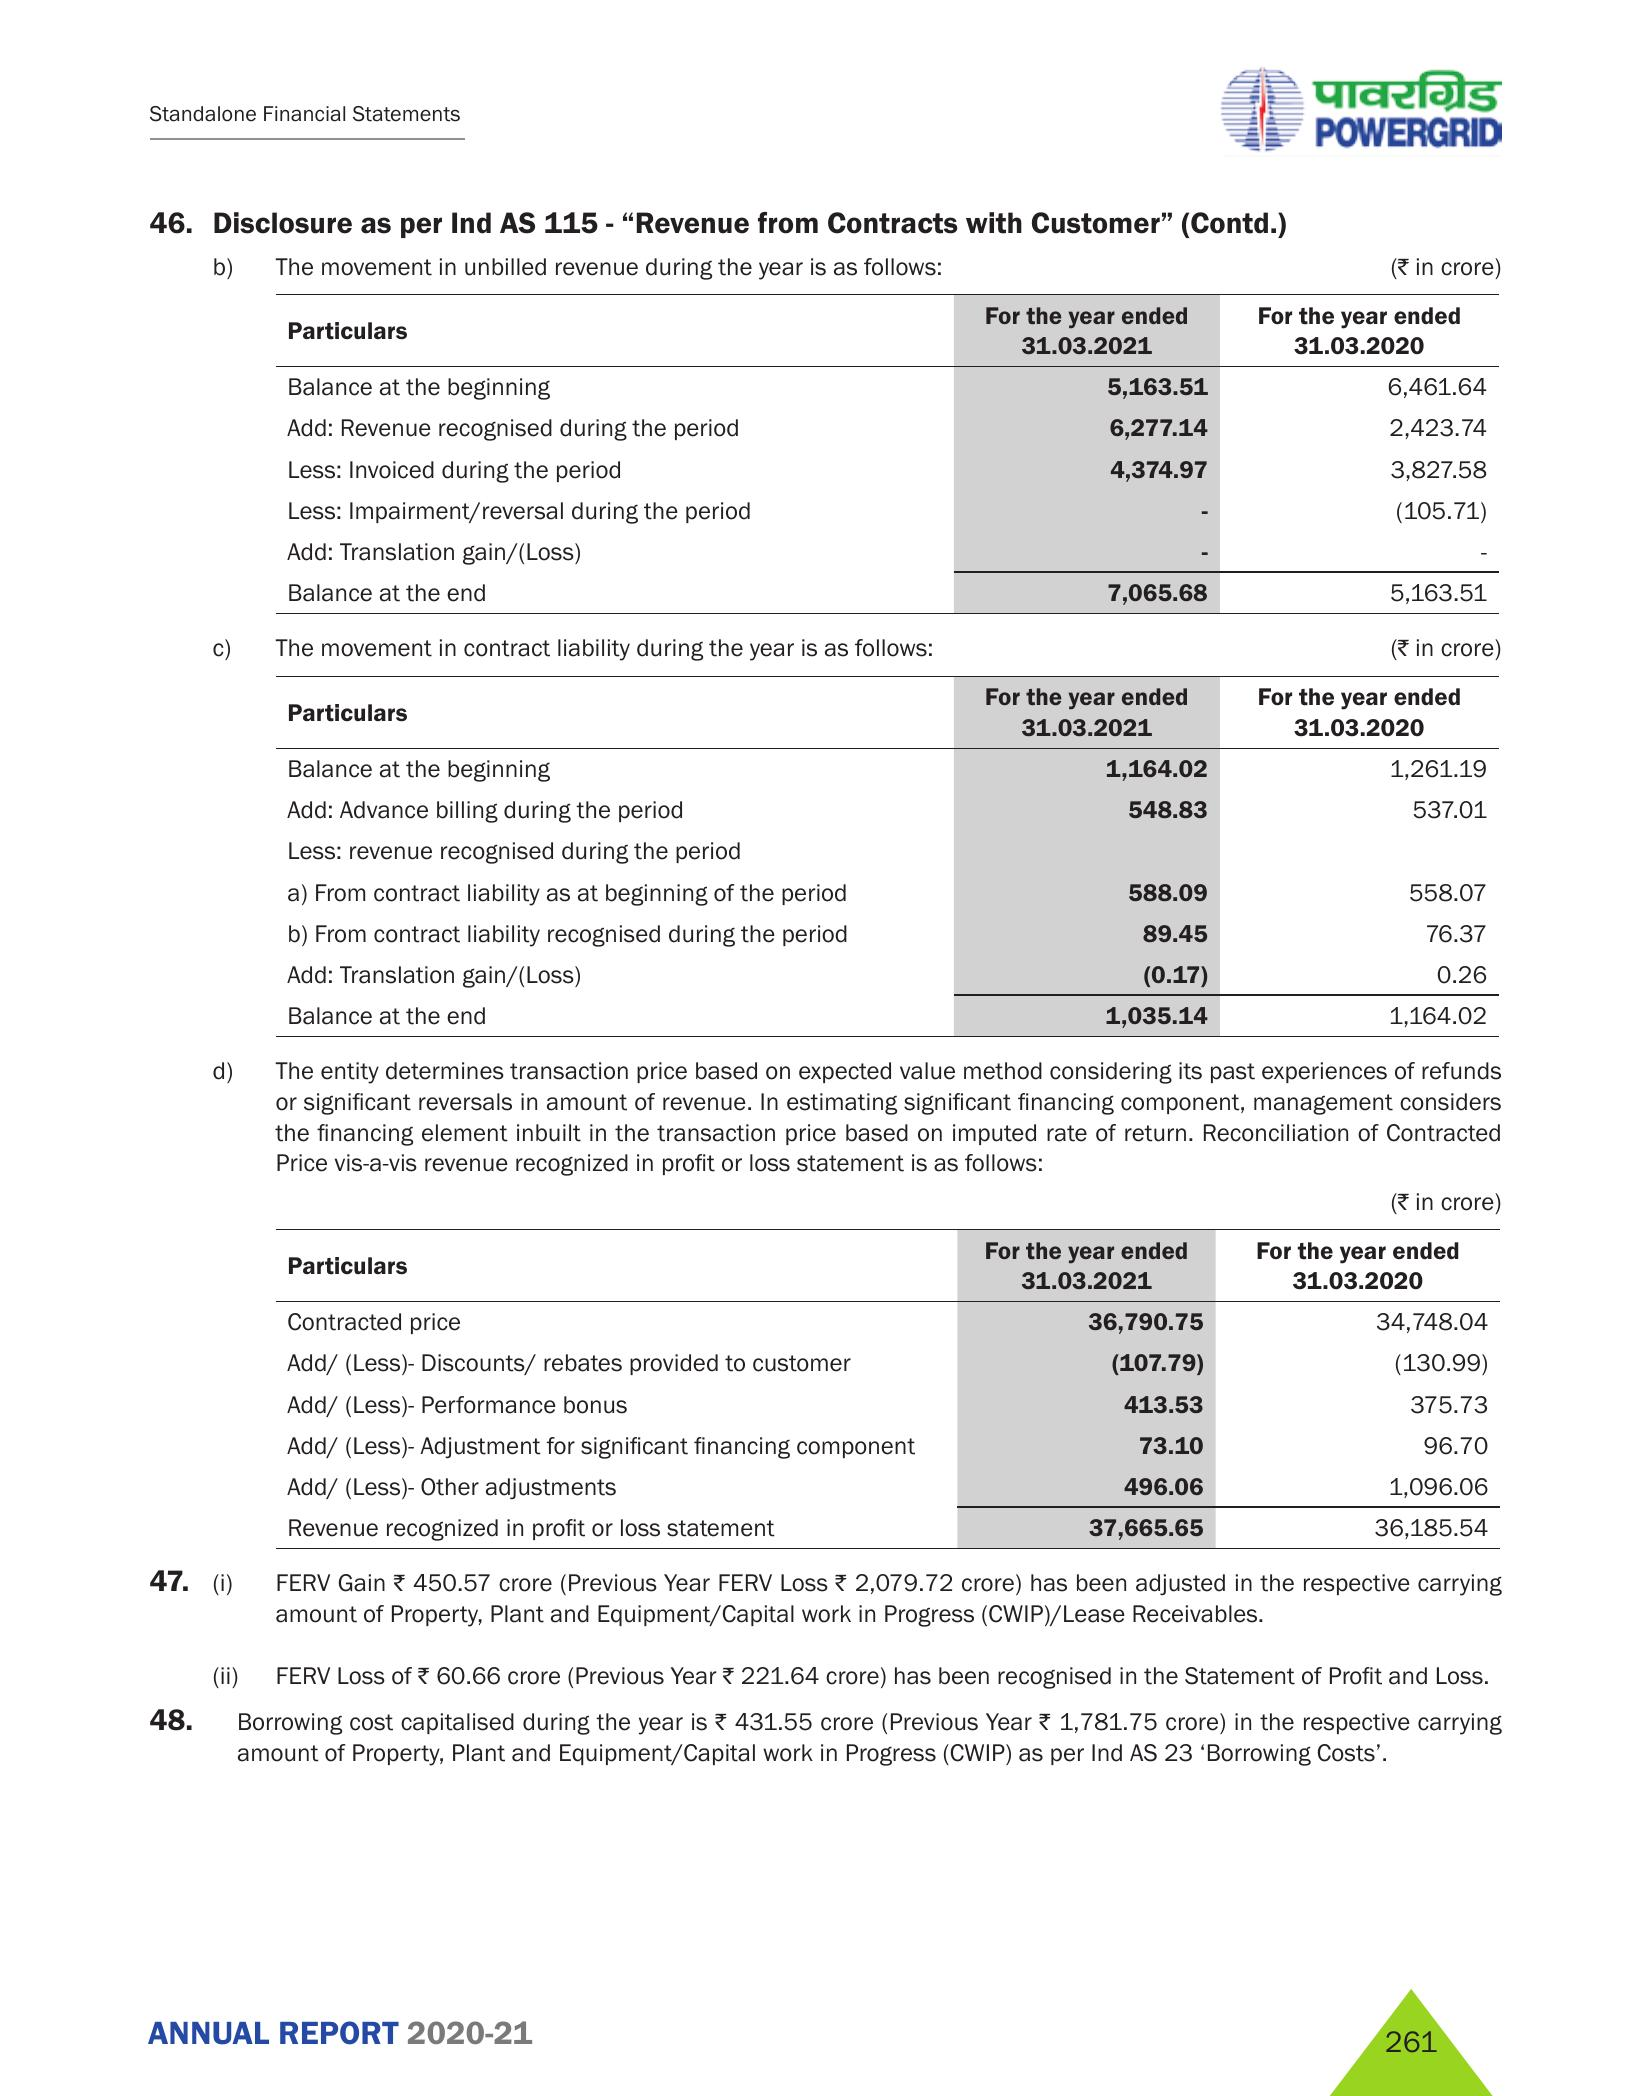Footer: (0, 1965, 1650, 2096)
Header: (0, 0, 1650, 172)
Table: (245, 679, 1536, 1029), (242, 282, 1521, 618), (253, 1227, 1499, 1548)
